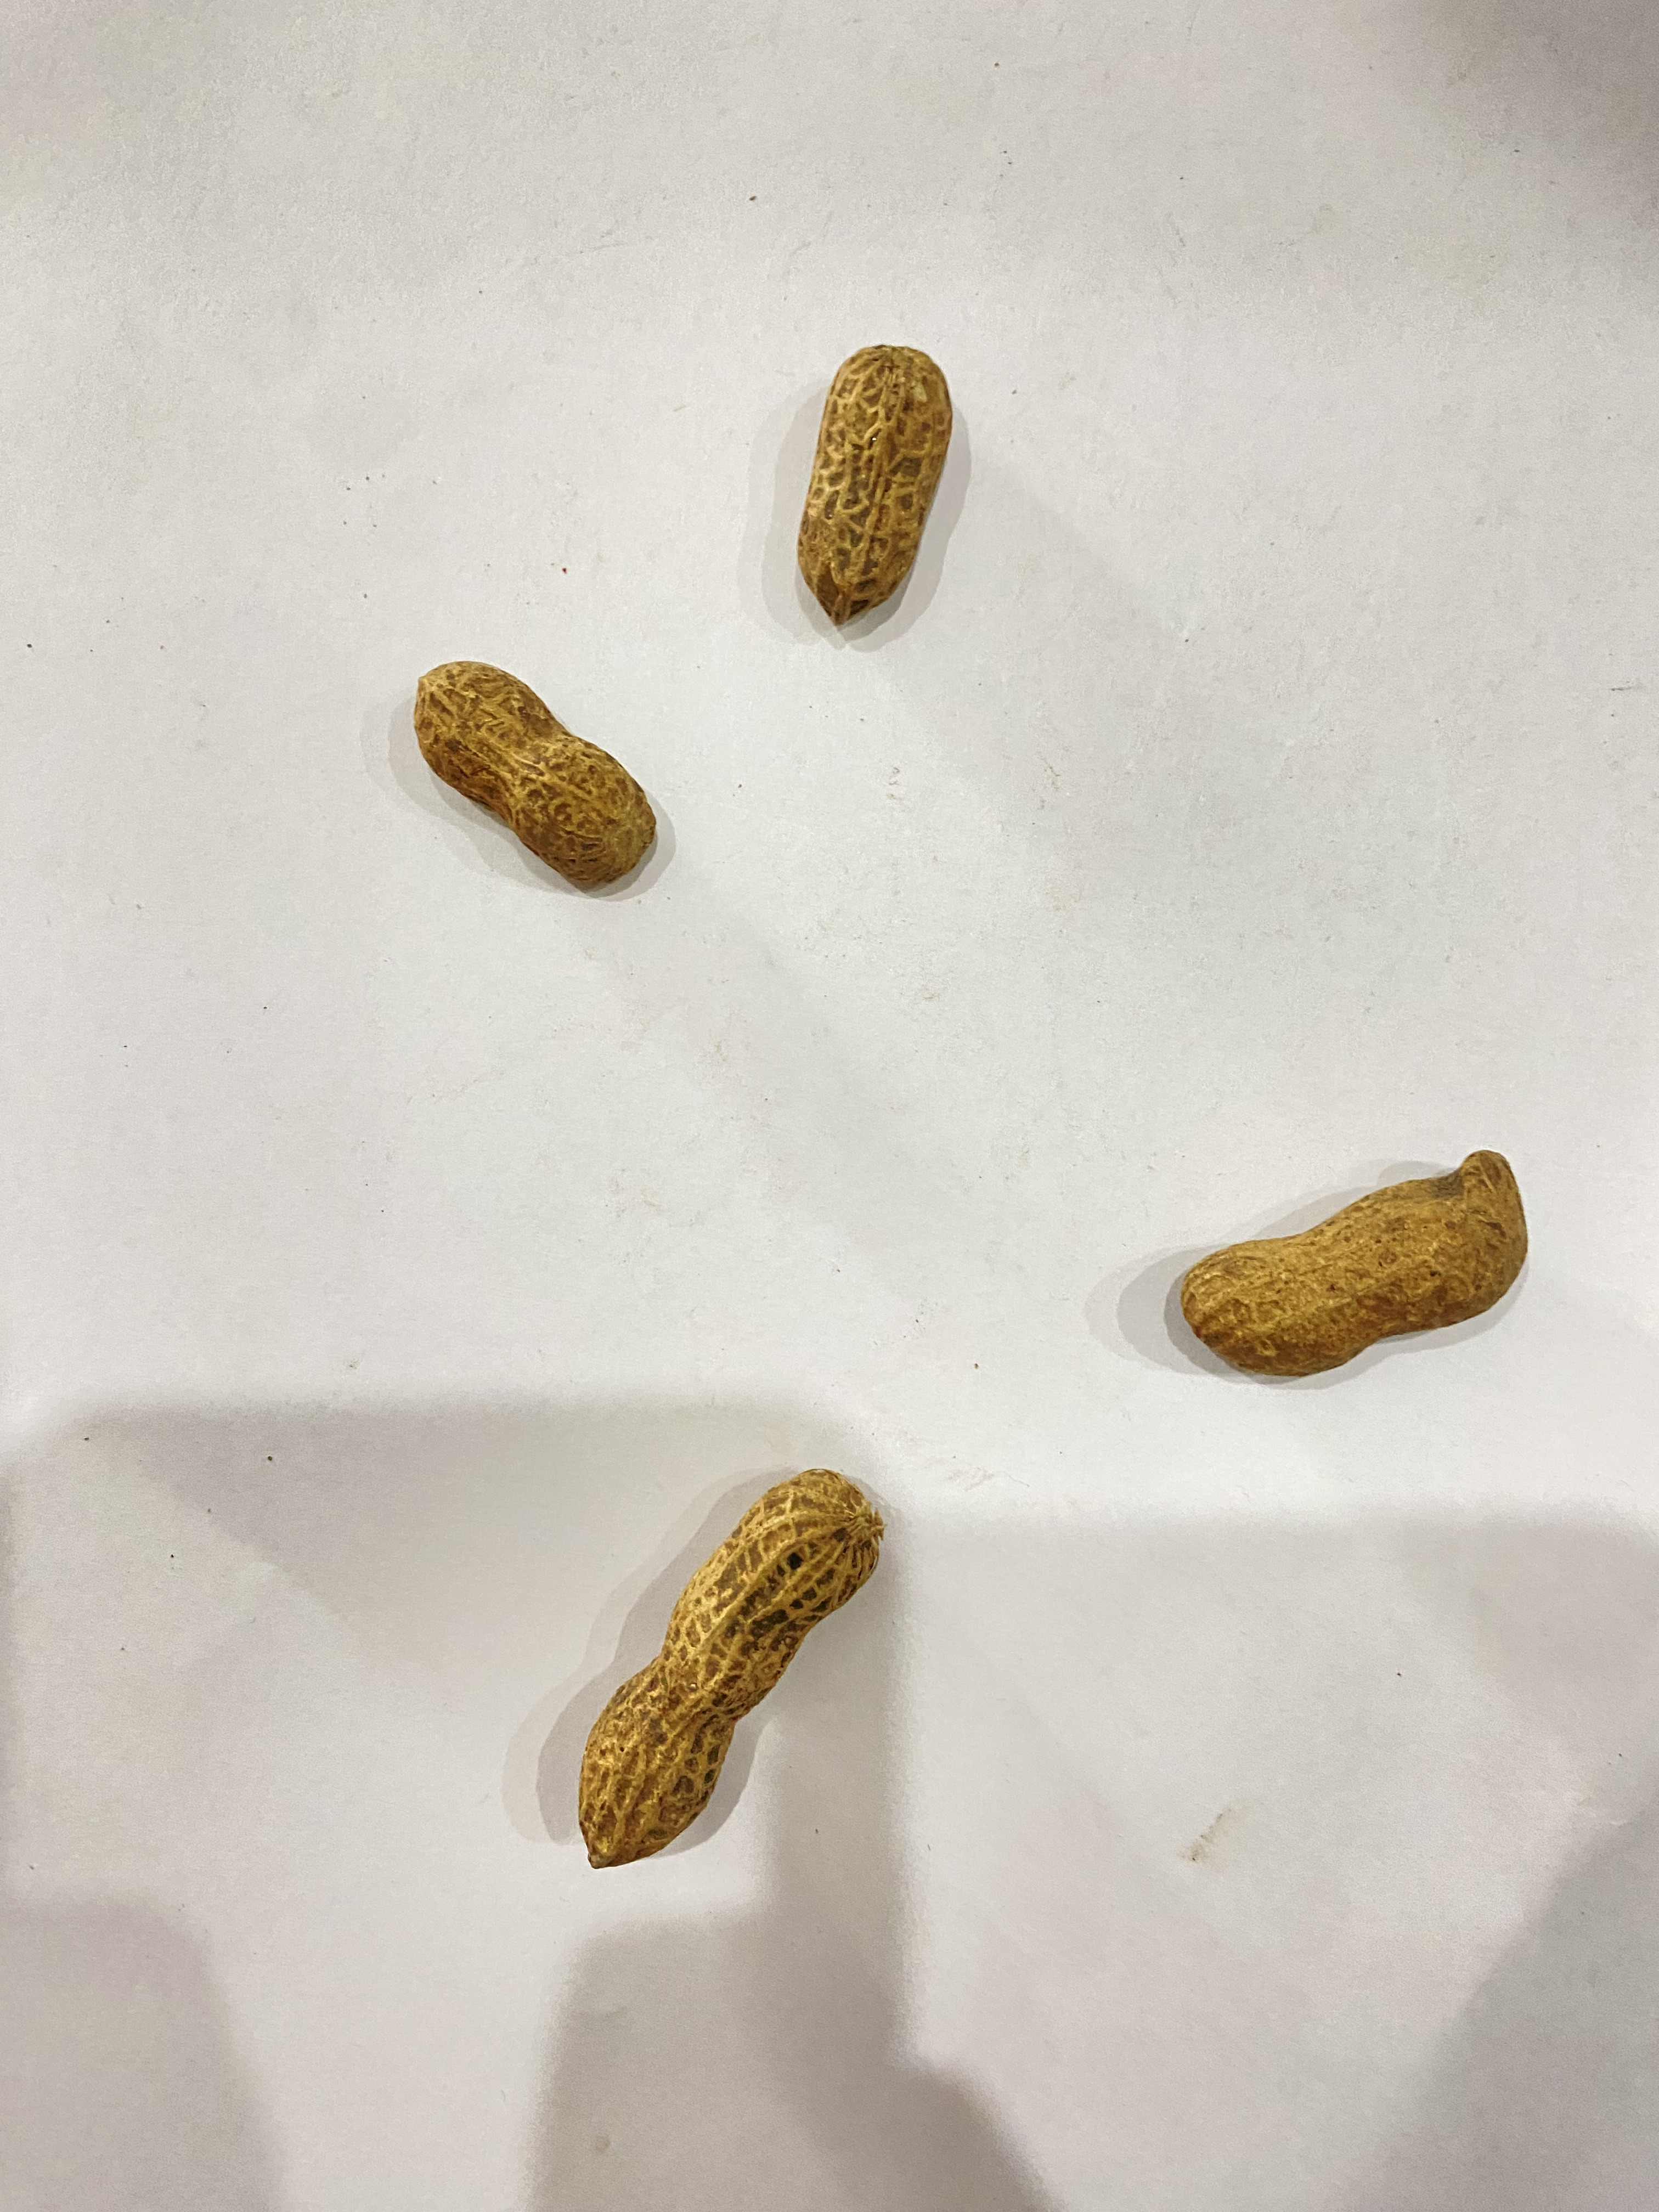kacang2: (1143, 1127, 1544, 1411), (389, 646, 687, 906), (777, 334, 979, 624)
kacang3: (530, 1456, 910, 1878)
